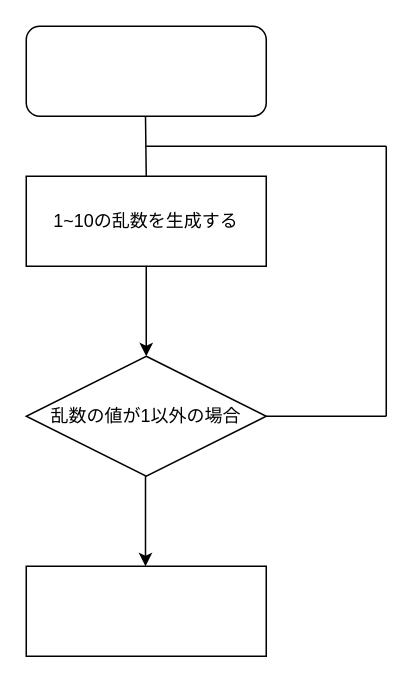
Image size: 414x683. Some labels were removed from this diagram. Here are the shapes that lost their labels. From the top down, the centre of each, then its label:
the point at 145,70: 乱数用の変数を定義
the point at 145,610: 乱数の値を出力する
